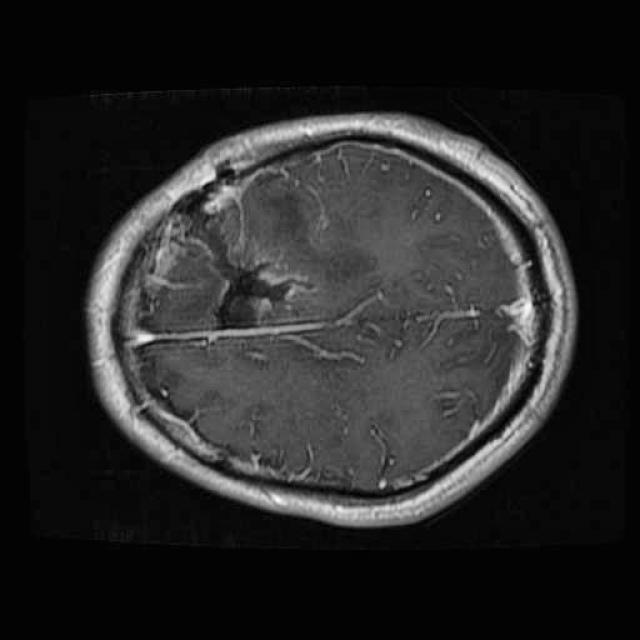Tumor: (169, 196, 319, 338)
